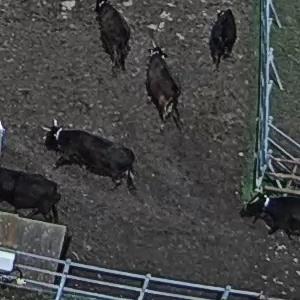cow: (36, 110, 146, 197), (140, 43, 191, 137), (80, 1, 136, 79), (1, 155, 65, 221), (204, 3, 246, 70)
